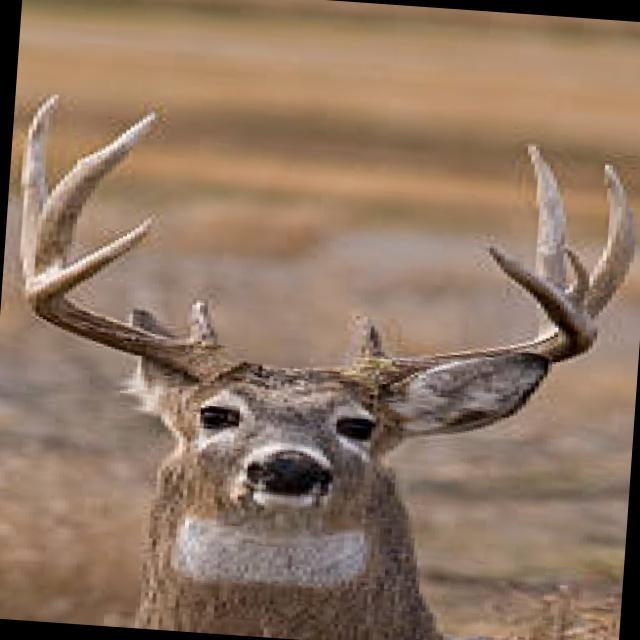E1: (559, 246, 591, 307)
L-F: (336, 243, 596, 392)
L-G1: (349, 313, 386, 363)
R-F: (23, 213, 248, 384)
R-G1: (185, 297, 222, 352)
R-G3: (22, 110, 165, 285)
